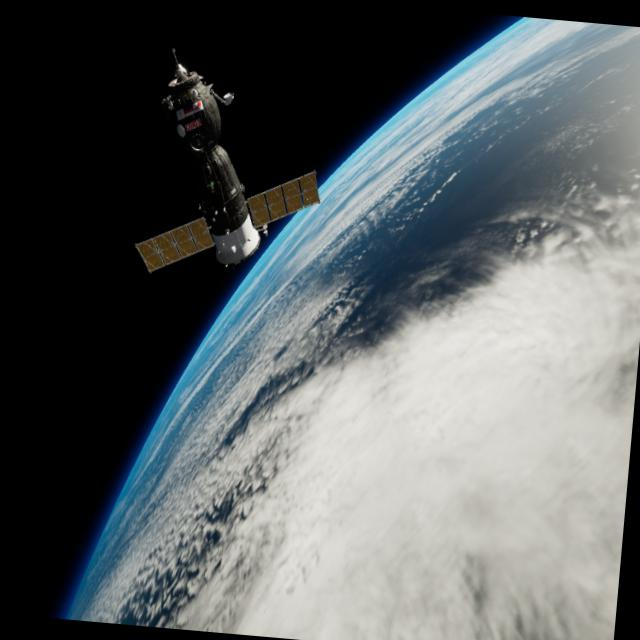Satellites revolving around earth: (65, 0, 640, 640), (129, 42, 334, 289)
